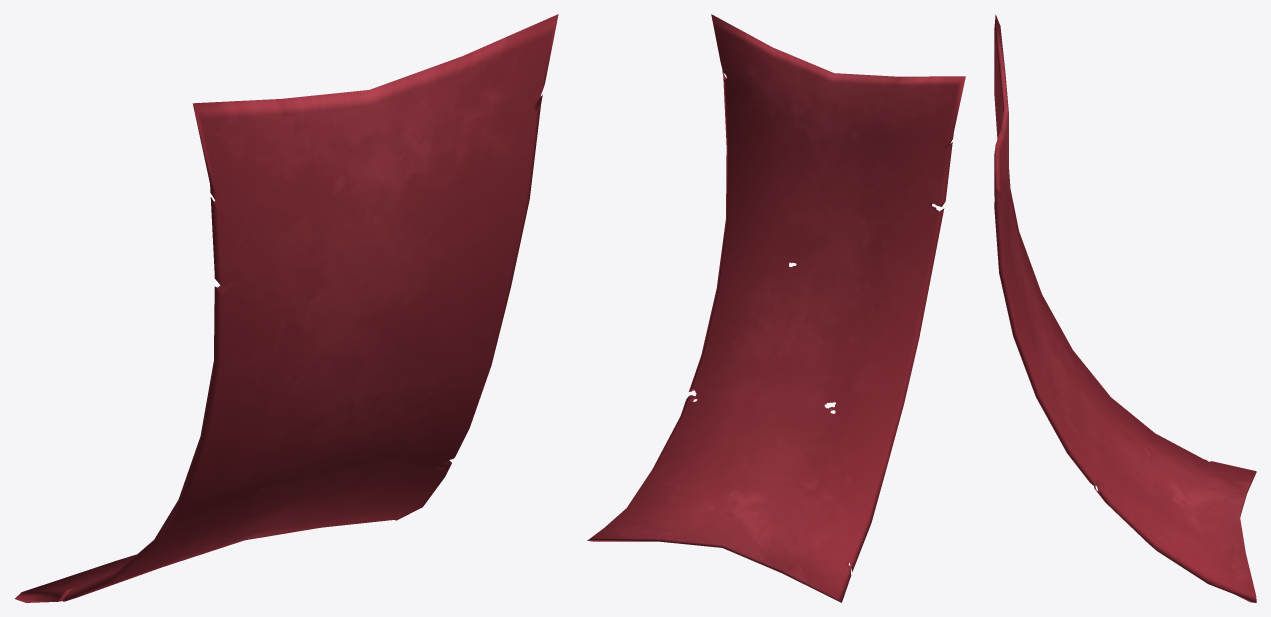
The model's file is PRM Drape 3D.fbx.
3 views of the same model, side by side, from view 1: azimuth 30°, elevation 25°; view 2: azimuth 150°, elevation 25°; view 3: azimuth 270°, elevation 25° (orthographic). The views are drawn at different scales.
Parts seen in each view (by area): view 1: Drape; view 2: Drape; view 3: Drape.
Part boxes in pixels (left/top/right/bottom): Drape: left=14, top=14, right=558, bottom=602; Drape: left=587, top=14, right=965, bottom=602; Drape: left=994, top=14, right=1256, bottom=602.
Bounding box in the file's own units: 695 × 1142 × 589.
